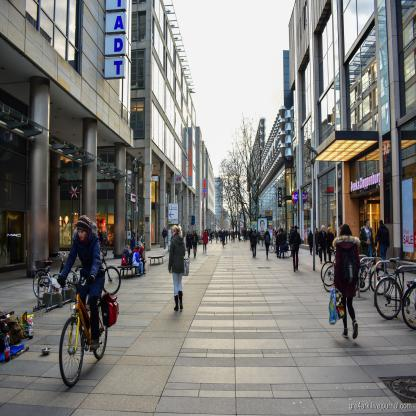div: (48, 276, 155, 333)
eqial: (112, 104, 234, 239)
mult: (298, 186, 397, 296)
